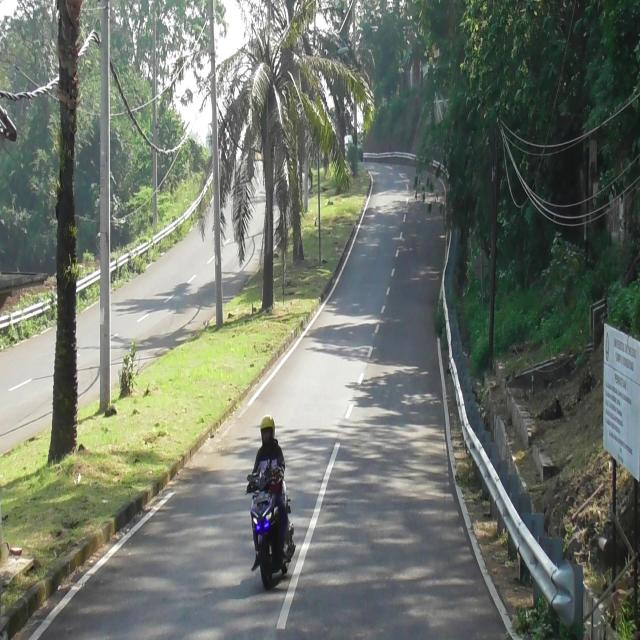motorcycle: (248, 468, 296, 583)
person: (251, 417, 291, 568)
rider_region: (248, 411, 295, 595)
